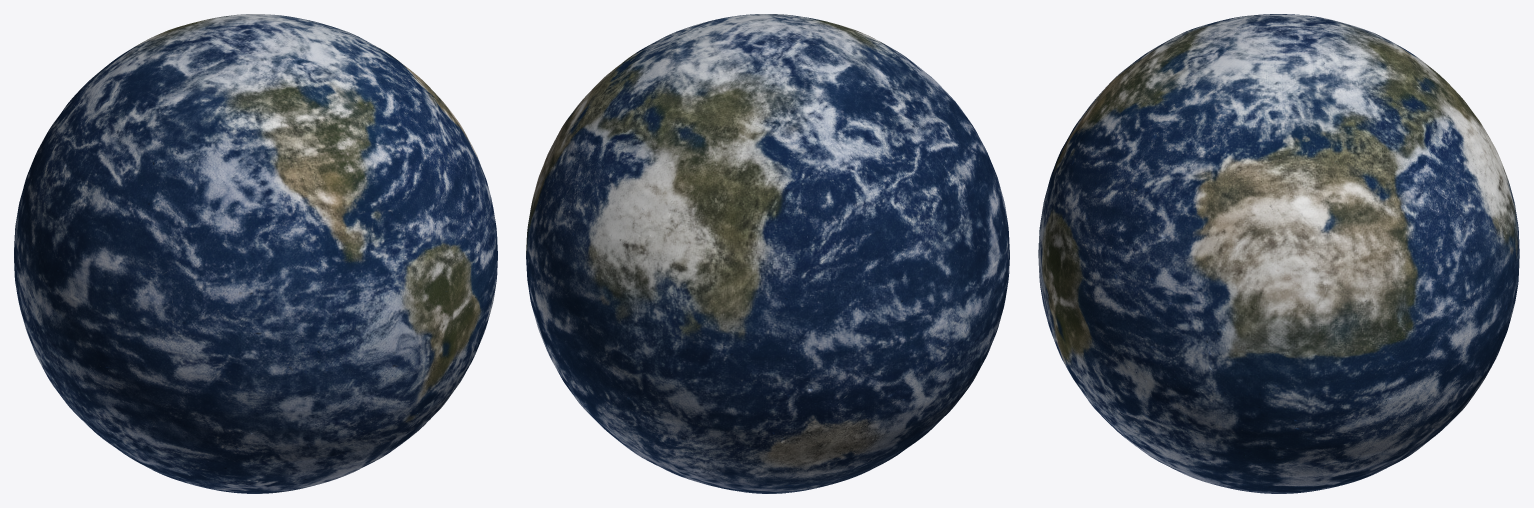
Rendered from tierra.glb.
The picture shows the model from 3 angles, left to right: view 1: azimuth 30°, elevation 25°; view 2: azimuth 150°, elevation 25°; view 3: azimuth 270°, elevation 25°; orthographic projection.
Visible parts, largest first — view 1: world; view 2: world; view 3: world.
Part boxes in pixels (box(x1,y1,x2,y2)): world: box(14, 14, 497, 493); world: box(526, 14, 1009, 493); world: box(1038, 14, 1519, 493).
Size of the model in its own units: 1 by 0.9977 by 0.9975.
Materials: 1 (1 with a texture image).
